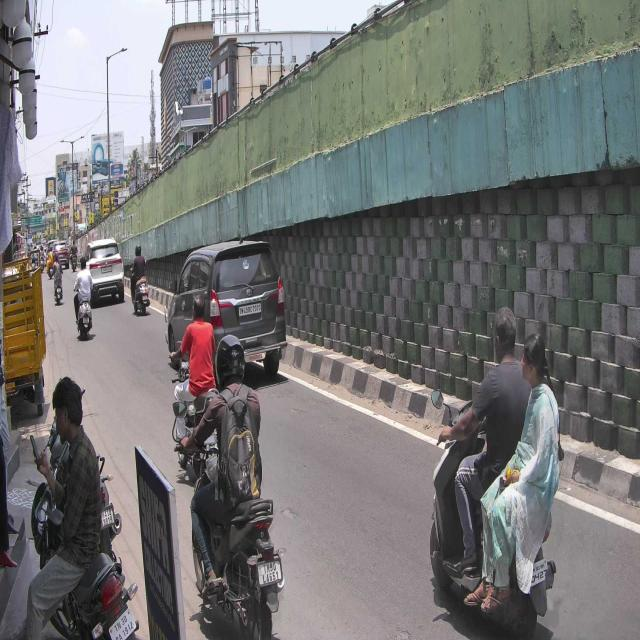double_rider: (425, 302, 564, 640)
single_rider: (175, 333, 287, 640)
